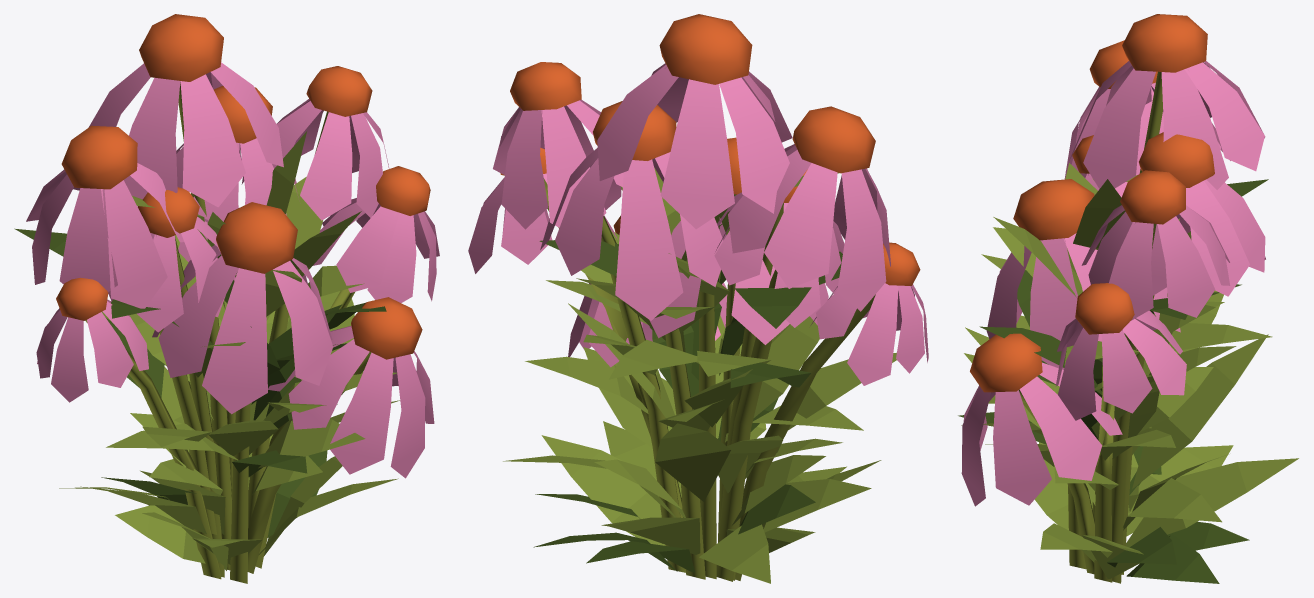
The picture shows the model from 3 angles, left to right: view 1: azimuth 30°, elevation 25°; view 2: azimuth 150°, elevation 25°; view 3: azimuth 270°, elevation 25°; orthographic projection. The views are drawn at different scales.
Visible parts, largest first — view 1: petals, cones, leaves_green, stems, leaves_dark; view 2: petals, leaves_green, cones, stems, leaves_dark; view 3: petals, leaves_green, cones, leaves_dark, stems.
Boxes of the visible parts, x1=… form: petals: x1=26, y1=62, x2=439, y2=478; cones: x1=56, y1=14, x2=430, y2=359; leaves_green: x1=59, y1=131, x2=399, y2=570; stems: x1=85, y1=82, x2=371, y2=583; leaves_dark: x1=14, y1=228, x2=386, y2=537; petals: x1=468, y1=63, x2=928, y2=385; leaves_green: x1=503, y1=167, x2=896, y2=583; cones: x1=500, y1=14, x2=920, y2=285; stems: x1=543, y1=178, x2=875, y2=581; leaves_dark: x1=533, y1=194, x2=842, y2=572; petals: x1=961, y1=61, x2=1265, y2=506; leaves_green: x1=961, y1=163, x2=1298, y2=578; cones: x1=970, y1=14, x2=1214, y2=392; leaves_dark: x1=958, y1=179, x2=1268, y2=583; stems: x1=1019, y1=71, x2=1163, y2=583.
Bounding box in the file's own units: 0.5762 × 0.744 × 0.4269.
